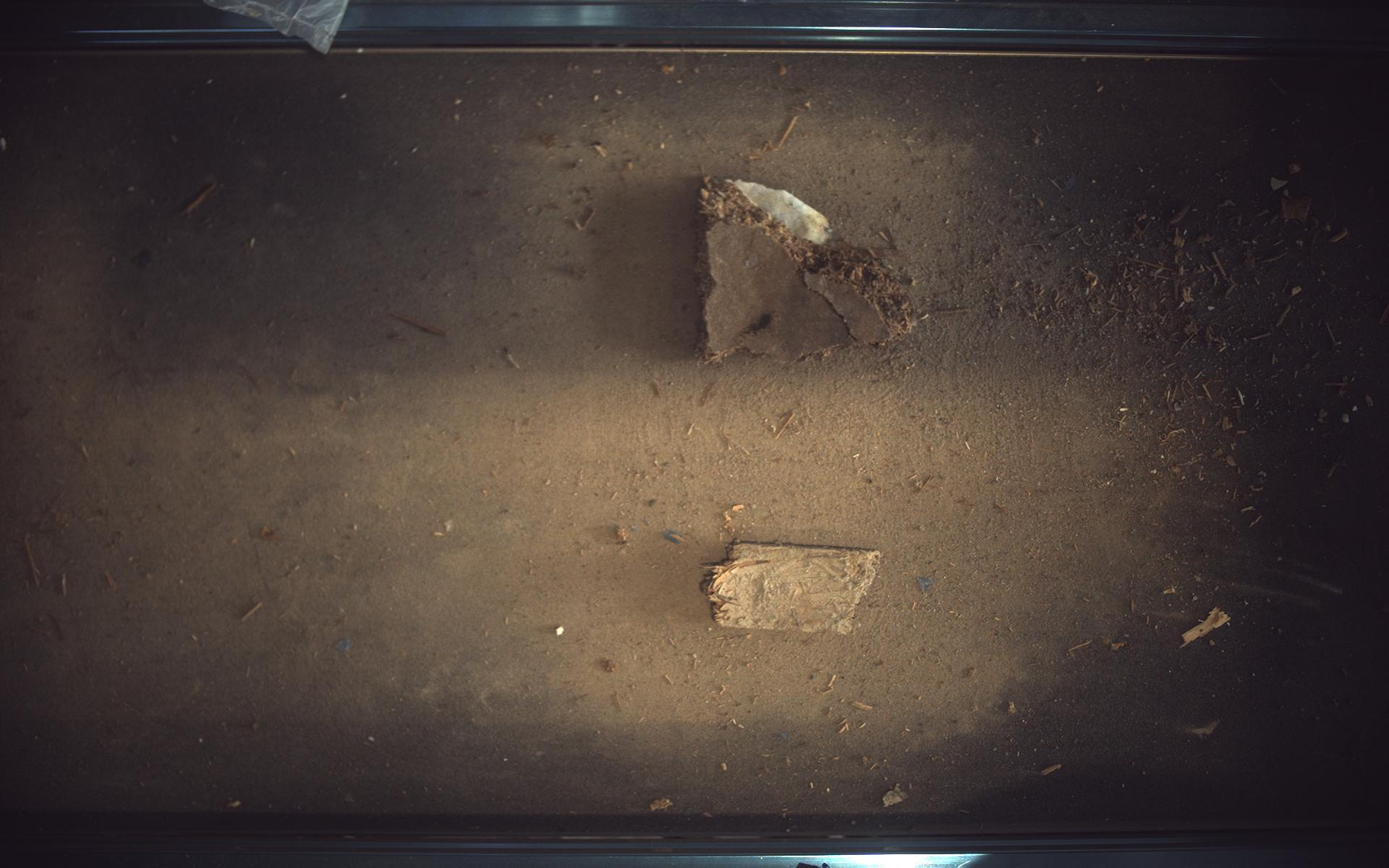wood: (702, 177, 913, 359), (704, 543, 883, 634)
